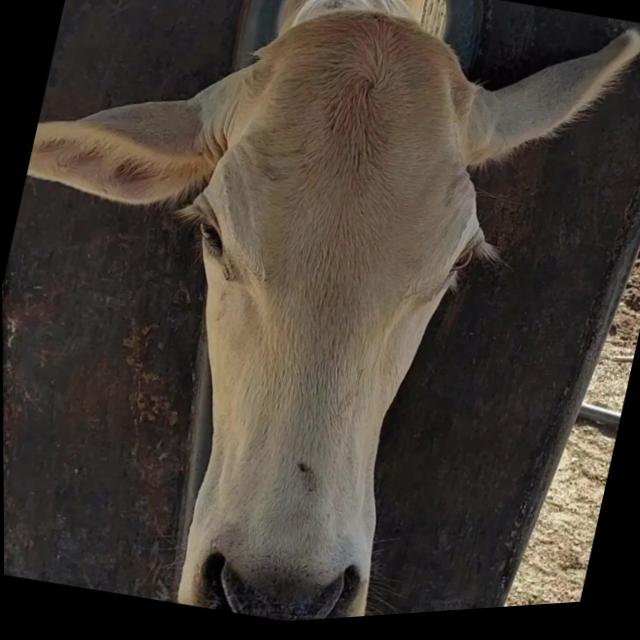cowFace: (102, 0, 530, 635)
